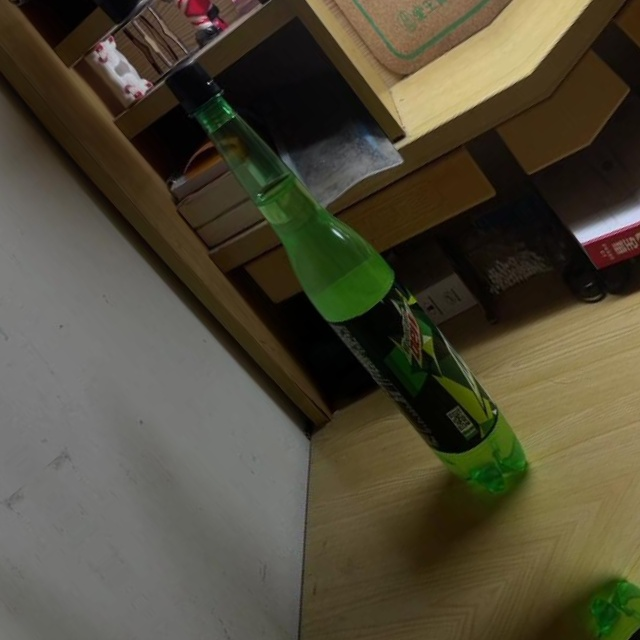Mountain-Dew: (137, 43, 551, 513)
